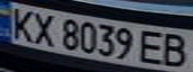0: (75, 19, 96, 55)
3: (93, 21, 118, 59)
8: (54, 16, 81, 52)
9: (115, 25, 139, 61)
B: (157, 30, 193, 69)
E: (136, 27, 169, 65)
K: (3, 6, 39, 42)
X: (27, 10, 60, 47)
